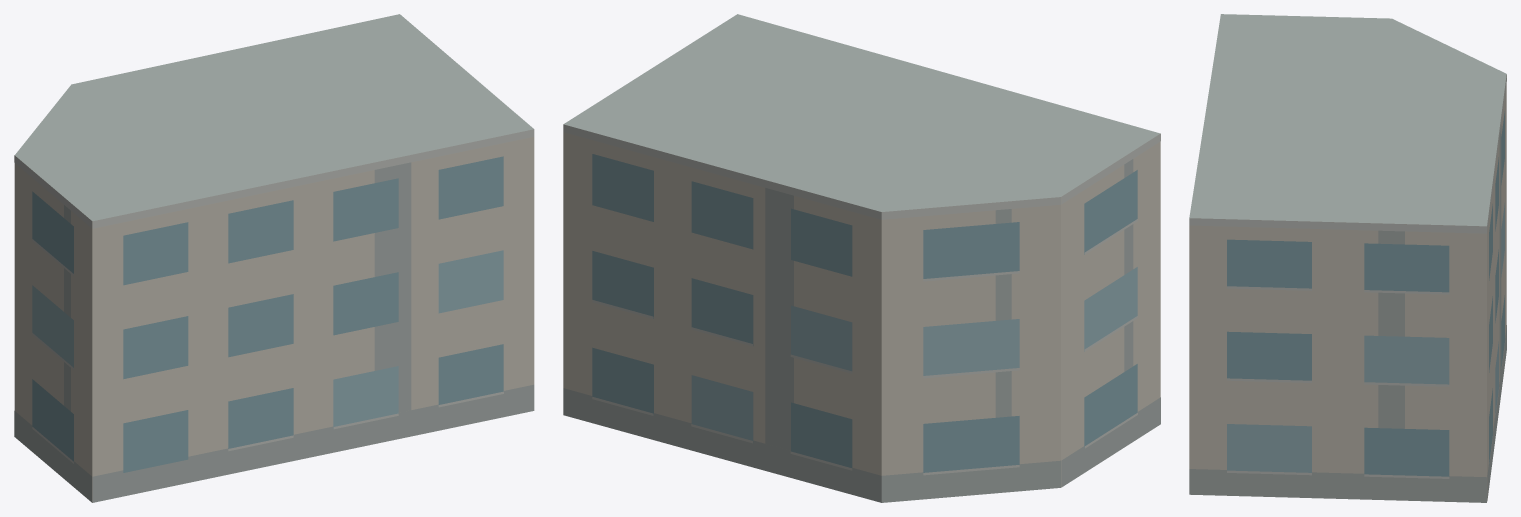
The model's file is residential-df0509fb-b7d8-4d91-ad1e-114f4acff7e7.glb.
3 views of the same model, side by side, from view 1: azimuth 30°, elevation 25°; view 2: azimuth 150°, elevation 25°; view 3: azimuth 270°, elevation 25° (orthographic). The views are drawn at different scales.
Visible parts, largest first — view 1: residential-df0509fb-b7d8-4d91-ad1e-114f4acff7e7.tmp; view 2: residential-df0509fb-b7d8-4d91-ad1e-114f4acff7e7.tmp; view 3: residential-df0509fb-b7d8-4d91-ad1e-114f4acff7e7.tmp.
Part boxes in pixels (x1,y1,x2,y2): residential-df0509fb-b7d8-4d91-ad1e-114f4acff7e7.tmp: [14, 14, 534, 502]; residential-df0509fb-b7d8-4d91-ad1e-114f4acff7e7.tmp: [563, 14, 1160, 502]; residential-df0509fb-b7d8-4d91-ad1e-114f4acff7e7.tmp: [1189, 14, 1506, 502].
Size of the model in its own units: 15.08 by 9.15 by 9.53.
